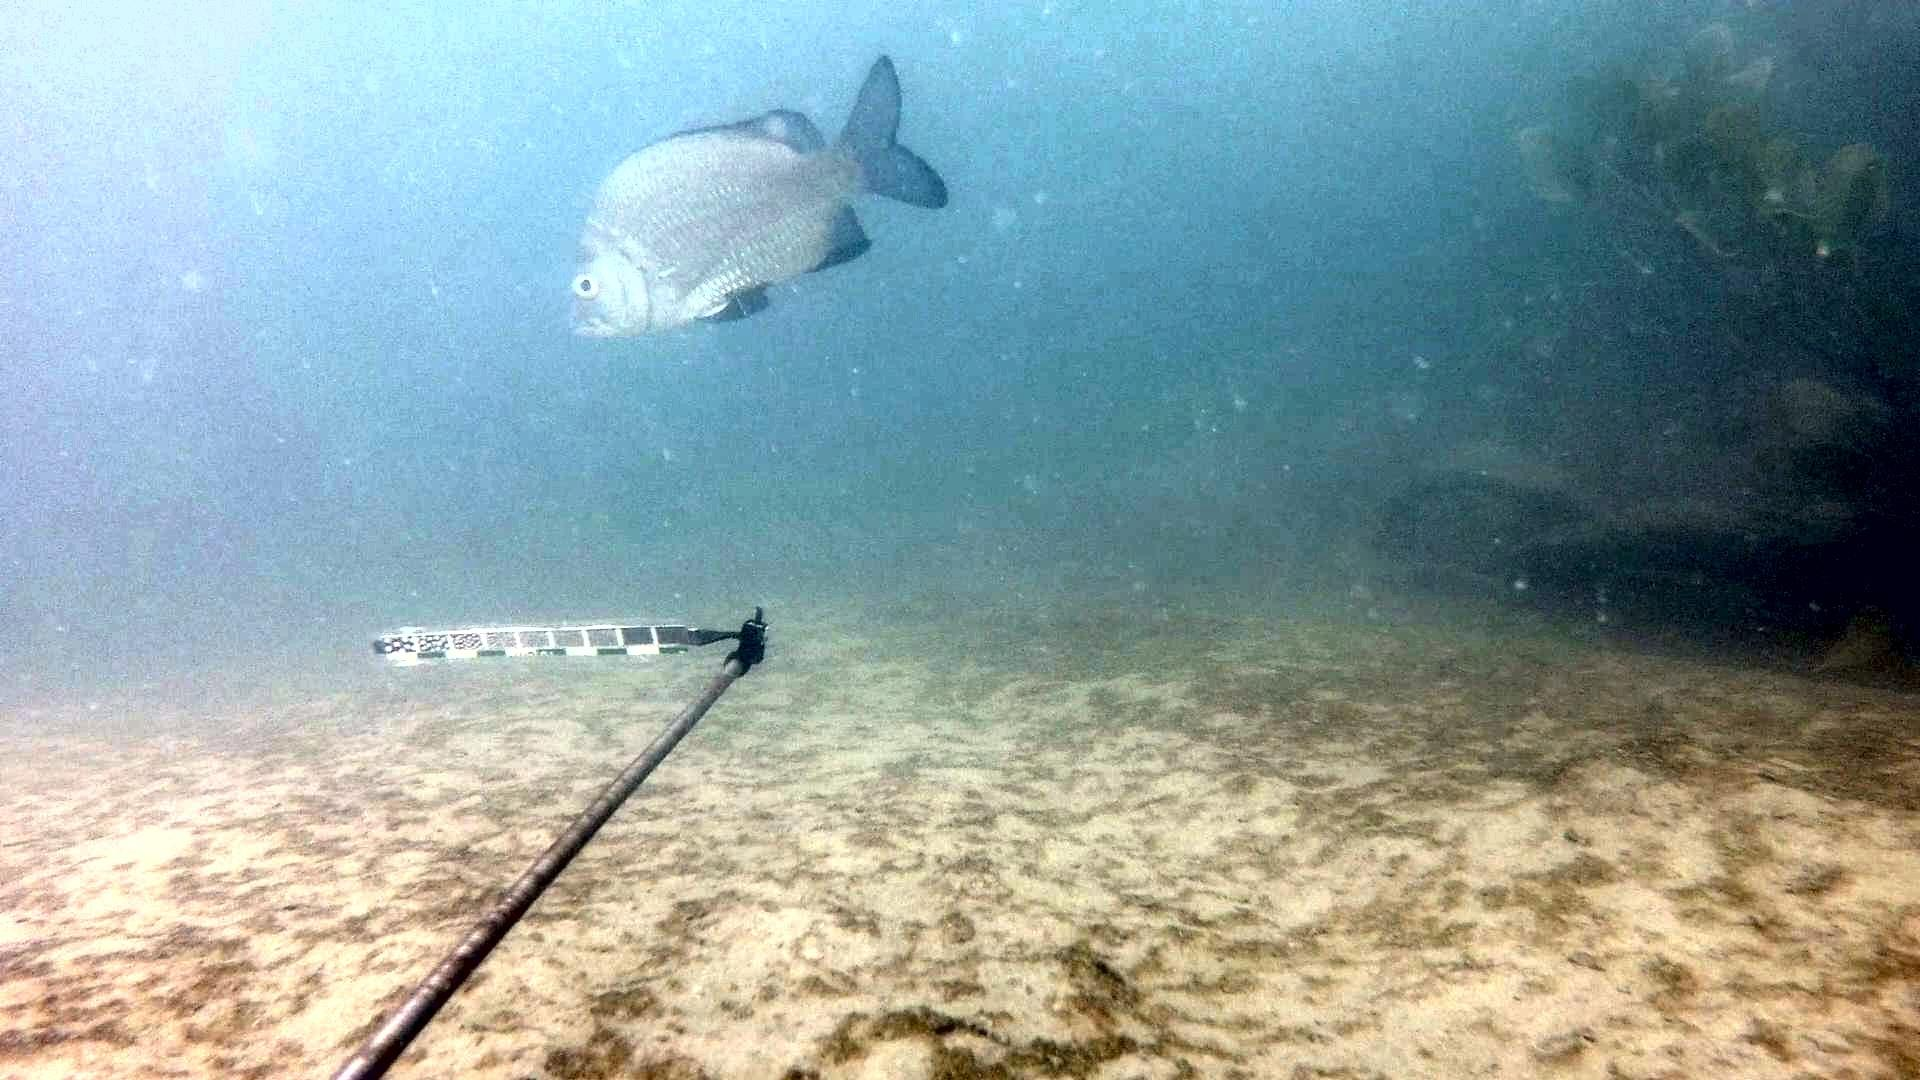acanthopagrus palmaris: (558, 50, 956, 349)
